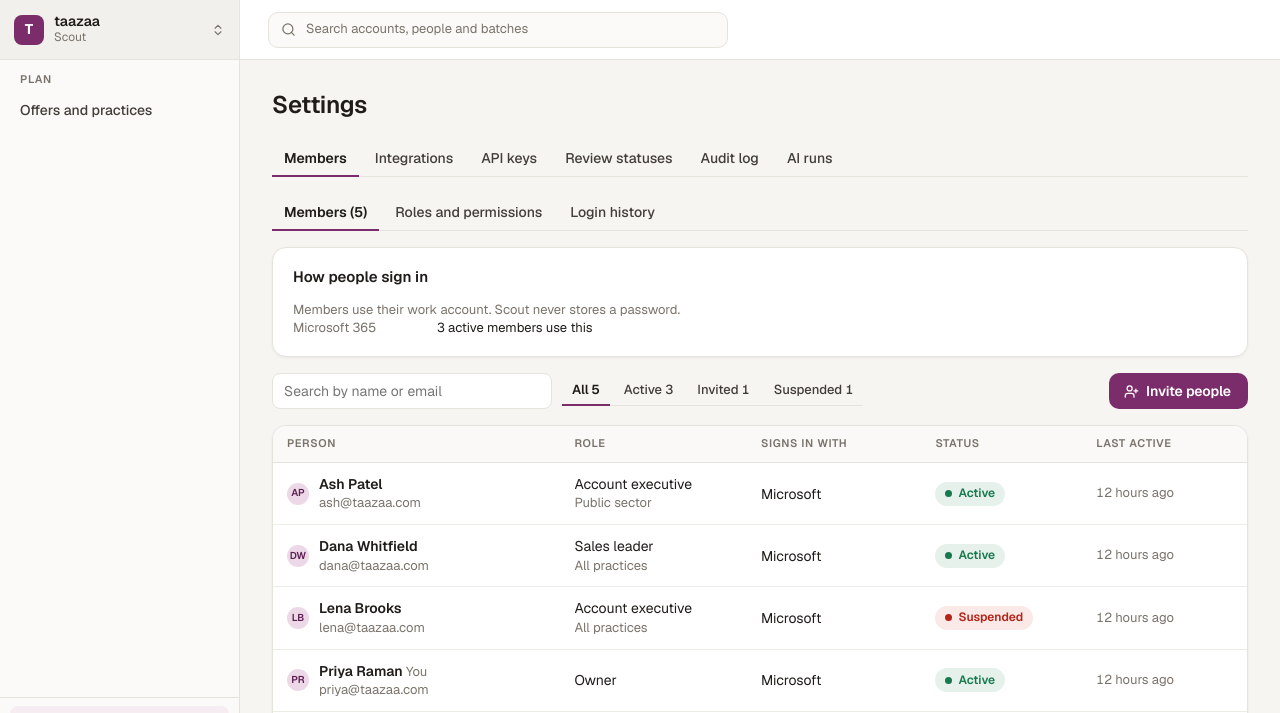
Roles and permissions tab › shows loading and error states
Click the tab "Roles and permissions". click: (469, 213)
box: [383,195,554,231]
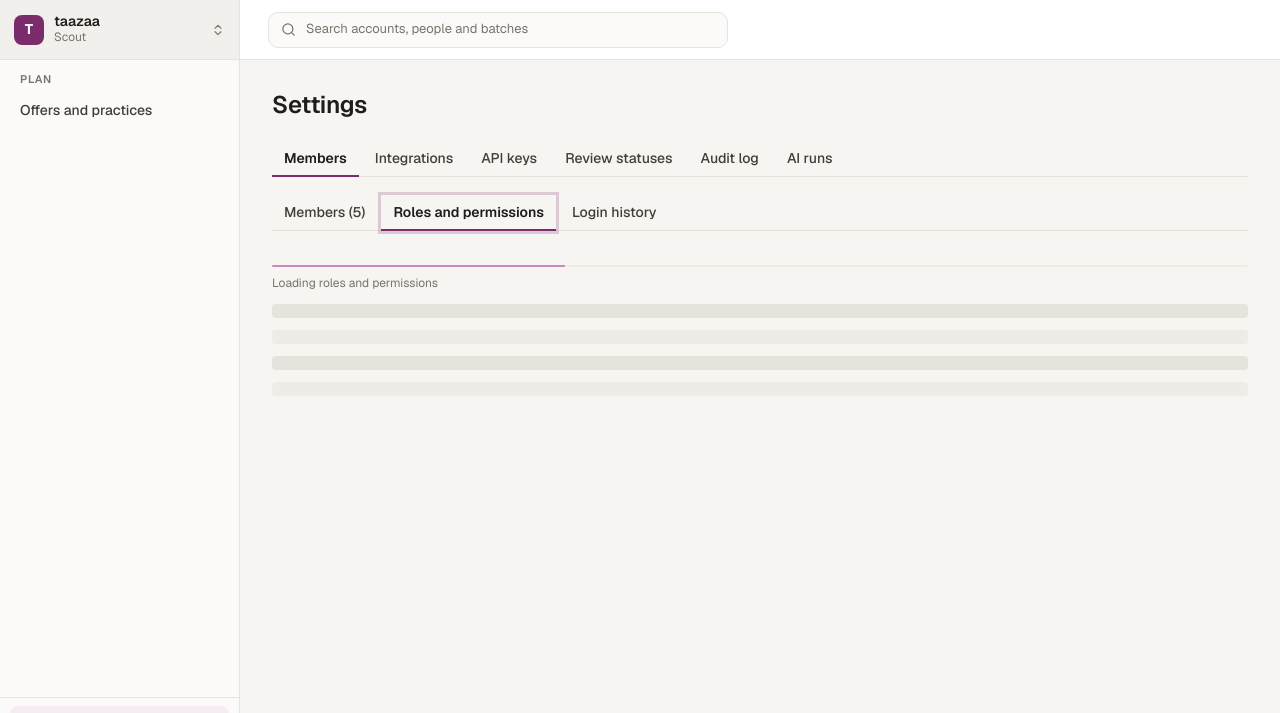
Check: the text "Loading roles and permissions" is shown, box [272,275,438,291]
